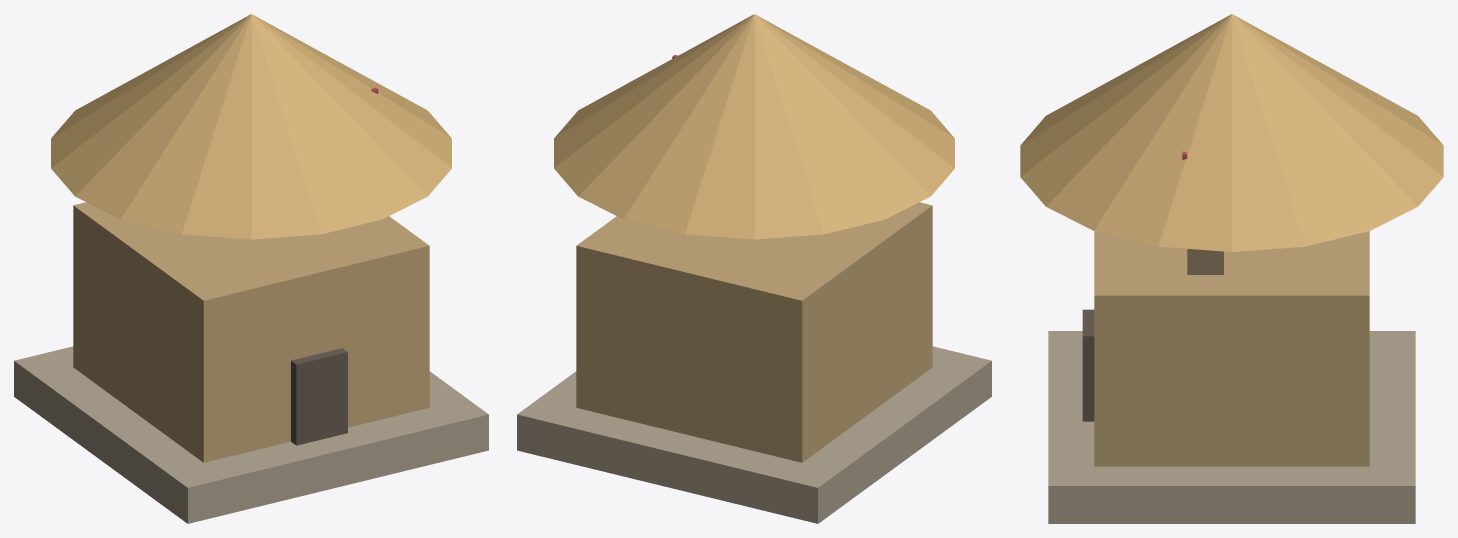
The model's file is townhall.glb.
The picture shows the model from 3 angles, left to right: view 1: azimuth 30°, elevation 25°; view 2: azimuth 150°, elevation 25°; view 3: azimuth 270°, elevation 25°; orthographic projection. The views are drawn at different scales.
Visible parts, largest first — view 1: g1, g2, g0, g3; view 2: g1, g2, g0; view 3: g2, g1, g0, g3, g4.
Part boxes in pixels (bbox=[...]): g1: bbox=[73, 202, 429, 462]; g2: bbox=[51, 14, 451, 239]; g0: bbox=[14, 346, 488, 523]; g3: bbox=[291, 348, 347, 445]; g1: bbox=[576, 202, 932, 462]; g2: bbox=[554, 14, 954, 239]; g0: bbox=[517, 346, 991, 523]; g2: bbox=[1020, 14, 1443, 251]; g1: bbox=[1094, 231, 1369, 466]; g0: bbox=[1048, 331, 1415, 523]; g3: bbox=[1082, 309, 1094, 421]; g4: bbox=[1187, 249, 1223, 274].
Size of the model in its own units: 1.64 by 1.82 by 1.62.
